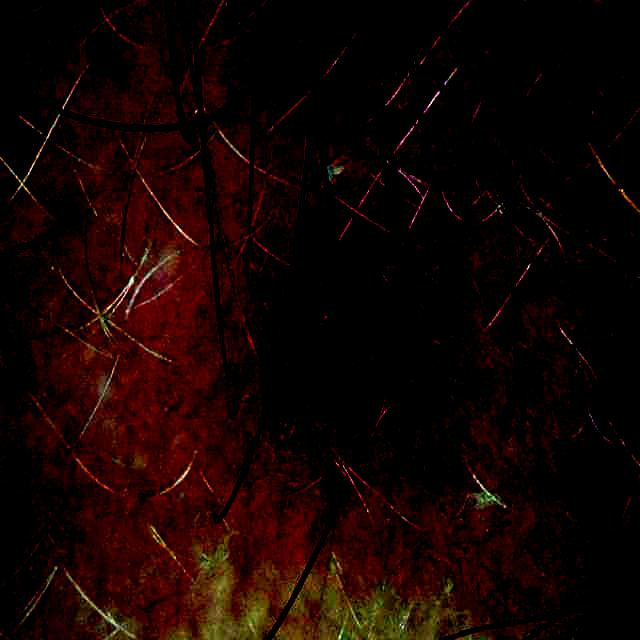VASC: (268, 256, 404, 454), (265, 272, 289, 335)
